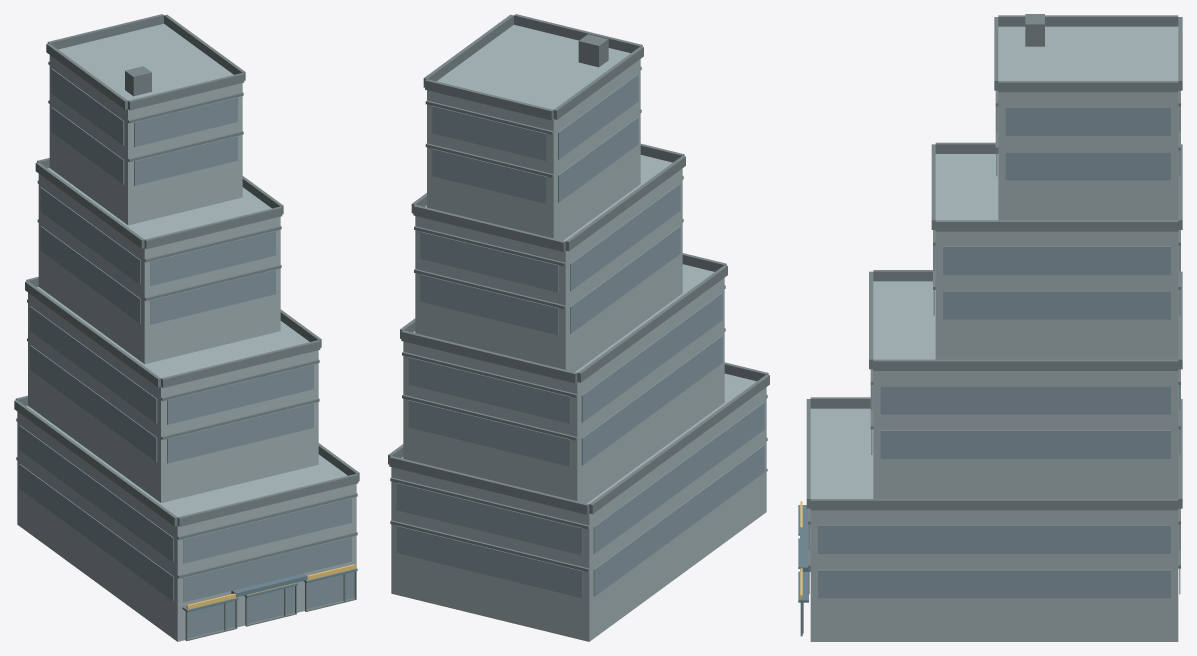
The model's file is commercial_2x3_terraces.glb.
3 views of the same model, side by side, from view 1: azimuth 30°, elevation 25°; view 2: azimuth 150°, elevation 25°; view 3: azimuth 270°, elevation 25° (orthographic). The views are drawn at different scales.
Parts seen in each view (by area): view 1: commercial_2x3_terraces_0; view 2: commercial_2x3_terraces_0; view 3: commercial_2x3_terraces_0.
Part boxes in pixels (x1,y1,x2,y2): commercial_2x3_terraces_0: (14,14,359,641); commercial_2x3_terraces_0: (388,14,769,641); commercial_2x3_terraces_0: (798,14,1182,641).
Bounding box in the file's own units: 15 × 37.5 × 23.5.
